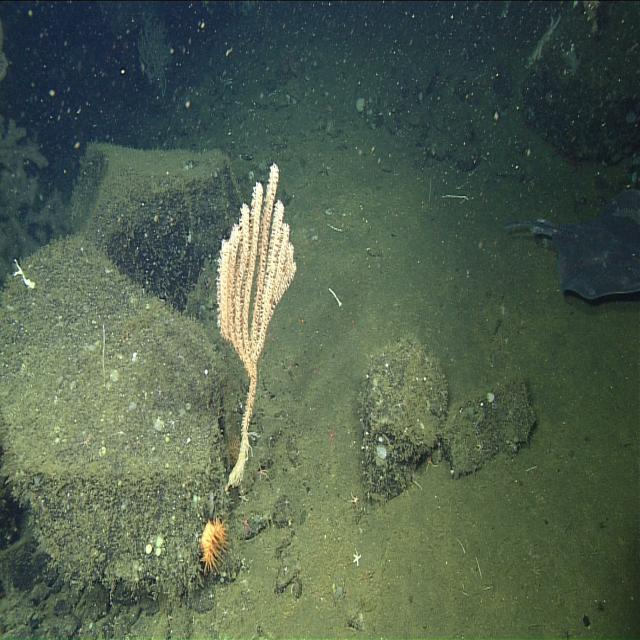Brittle Star: (237, 509, 257, 539), (322, 420, 341, 451), (254, 460, 274, 485), (421, 450, 440, 476), (347, 487, 363, 512)
Not Brittle Star: (212, 156, 299, 498), (499, 177, 640, 321), (135, 10, 175, 107), (196, 511, 232, 579), (525, 10, 563, 70), (350, 546, 365, 571)
